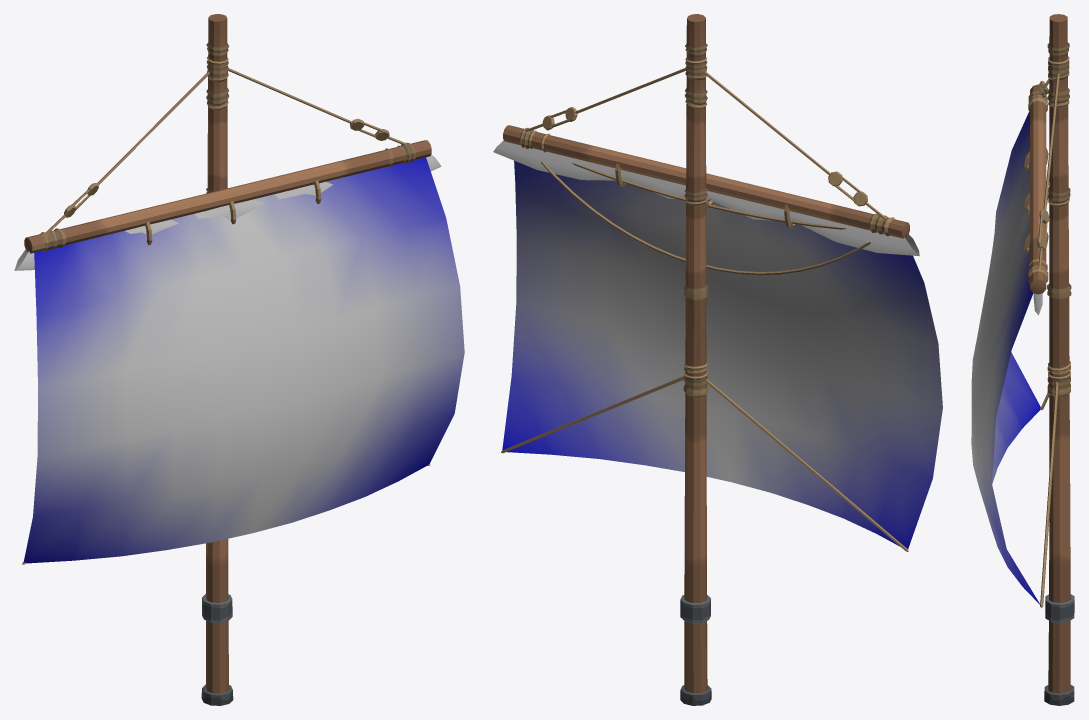
The model's file is SM_Veh_Ship_M_Mast_Front_01.fbx.
3 renders of one model, left to right at view 1: azimuth 30°, elevation 25°; view 2: azimuth 150°, elevation 25°; view 3: azimuth 270°, elevation 25°, orthographic.
Visible parts, largest first — view 1: SM_Veh_Ship_M_Mast_Front_01_Boom_01, SM_Veh_Ship_M_Mast_Front_01; view 2: SM_Veh_Ship_M_Mast_Front_01_Boom_01, SM_Veh_Ship_M_Mast_Front_01; view 3: SM_Veh_Ship_M_Mast_Front_01, SM_Veh_Ship_M_Mast_Front_01_Boom_01.
Part boxes in pixels (x1,y1,x2,y2): SM_Veh_Ship_M_Mast_Front_01_Boom_01: (14, 154, 464, 564); SM_Veh_Ship_M_Mast_Front_01: (24, 14, 431, 705); SM_Veh_Ship_M_Mast_Front_01_Boom_01: (493, 140, 942, 551); SM_Veh_Ship_M_Mast_Front_01: (503, 14, 909, 705); SM_Veh_Ship_M_Mast_Front_01: (1028, 14, 1074, 705); SM_Veh_Ship_M_Mast_Front_01_Boom_01: (971, 111, 1058, 607).
Bounding box in the file's own units: 1502 × 2291 × 314.
